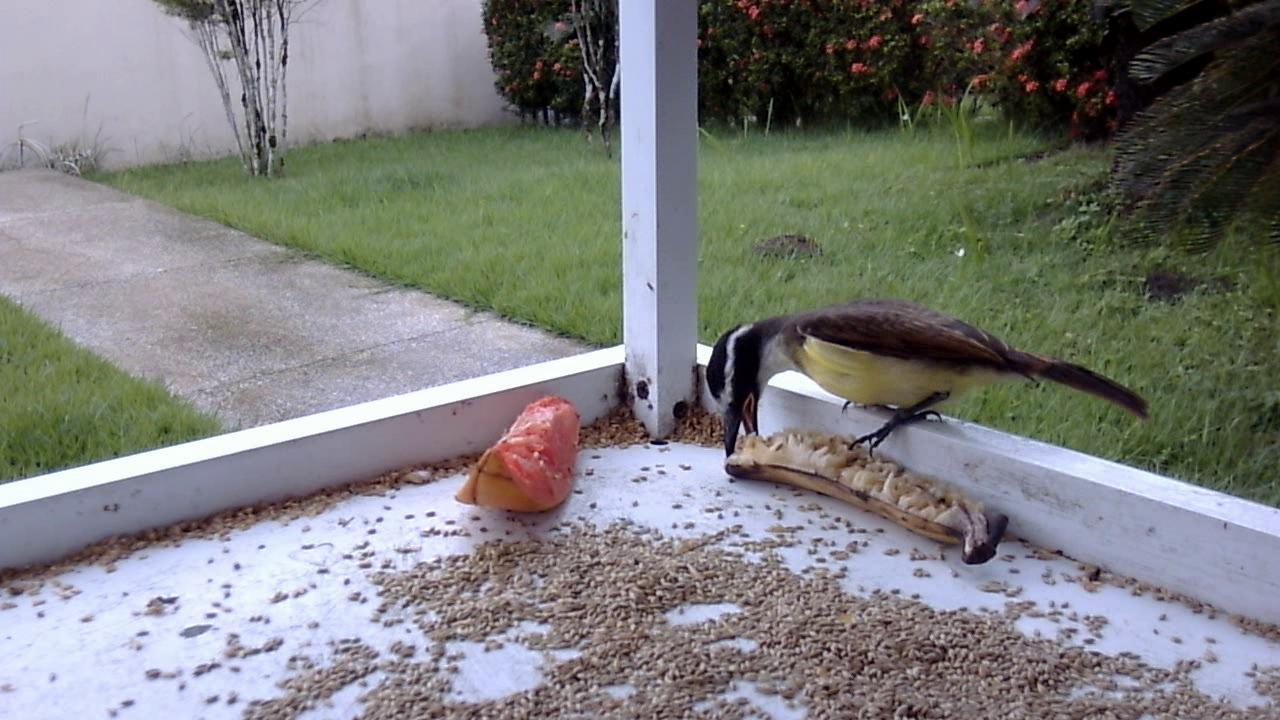bem_te_vi: (688, 284, 1150, 488)
